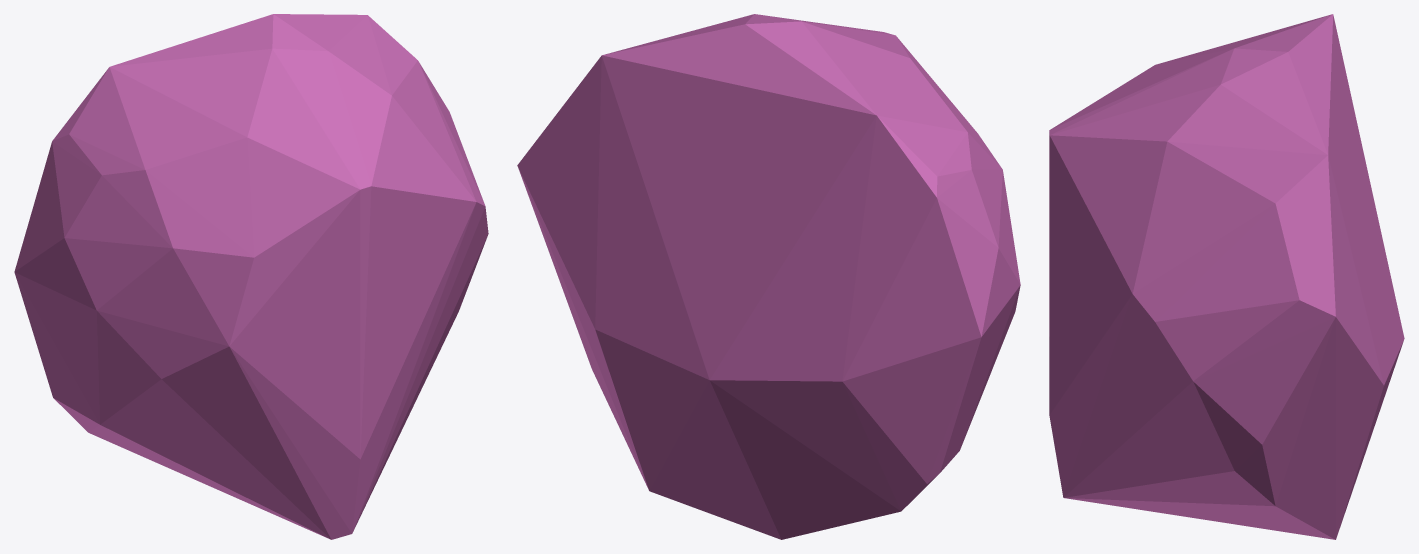
The model's file is kitchenware_kettle_b01.glb.
3 views of the same model, side by side, from view 1: azimuth 30°, elevation 25°; view 2: azimuth 150°, elevation 25°; view 3: azimuth 270°, elevation 25° (orthographic). The views are drawn at different scales.
Parts seen in each view (by area): view 1: geometry_0; view 2: geometry_0; view 3: geometry_0.
Part boxes in pixels (x1,y1,x2,y2): geometry_0: (14, 14, 488, 539); geometry_0: (517, 14, 1020, 539); geometry_0: (1049, 14, 1404, 539).
Size of the model in its own units: 0.4454 by 0.4467 by 0.3044.
